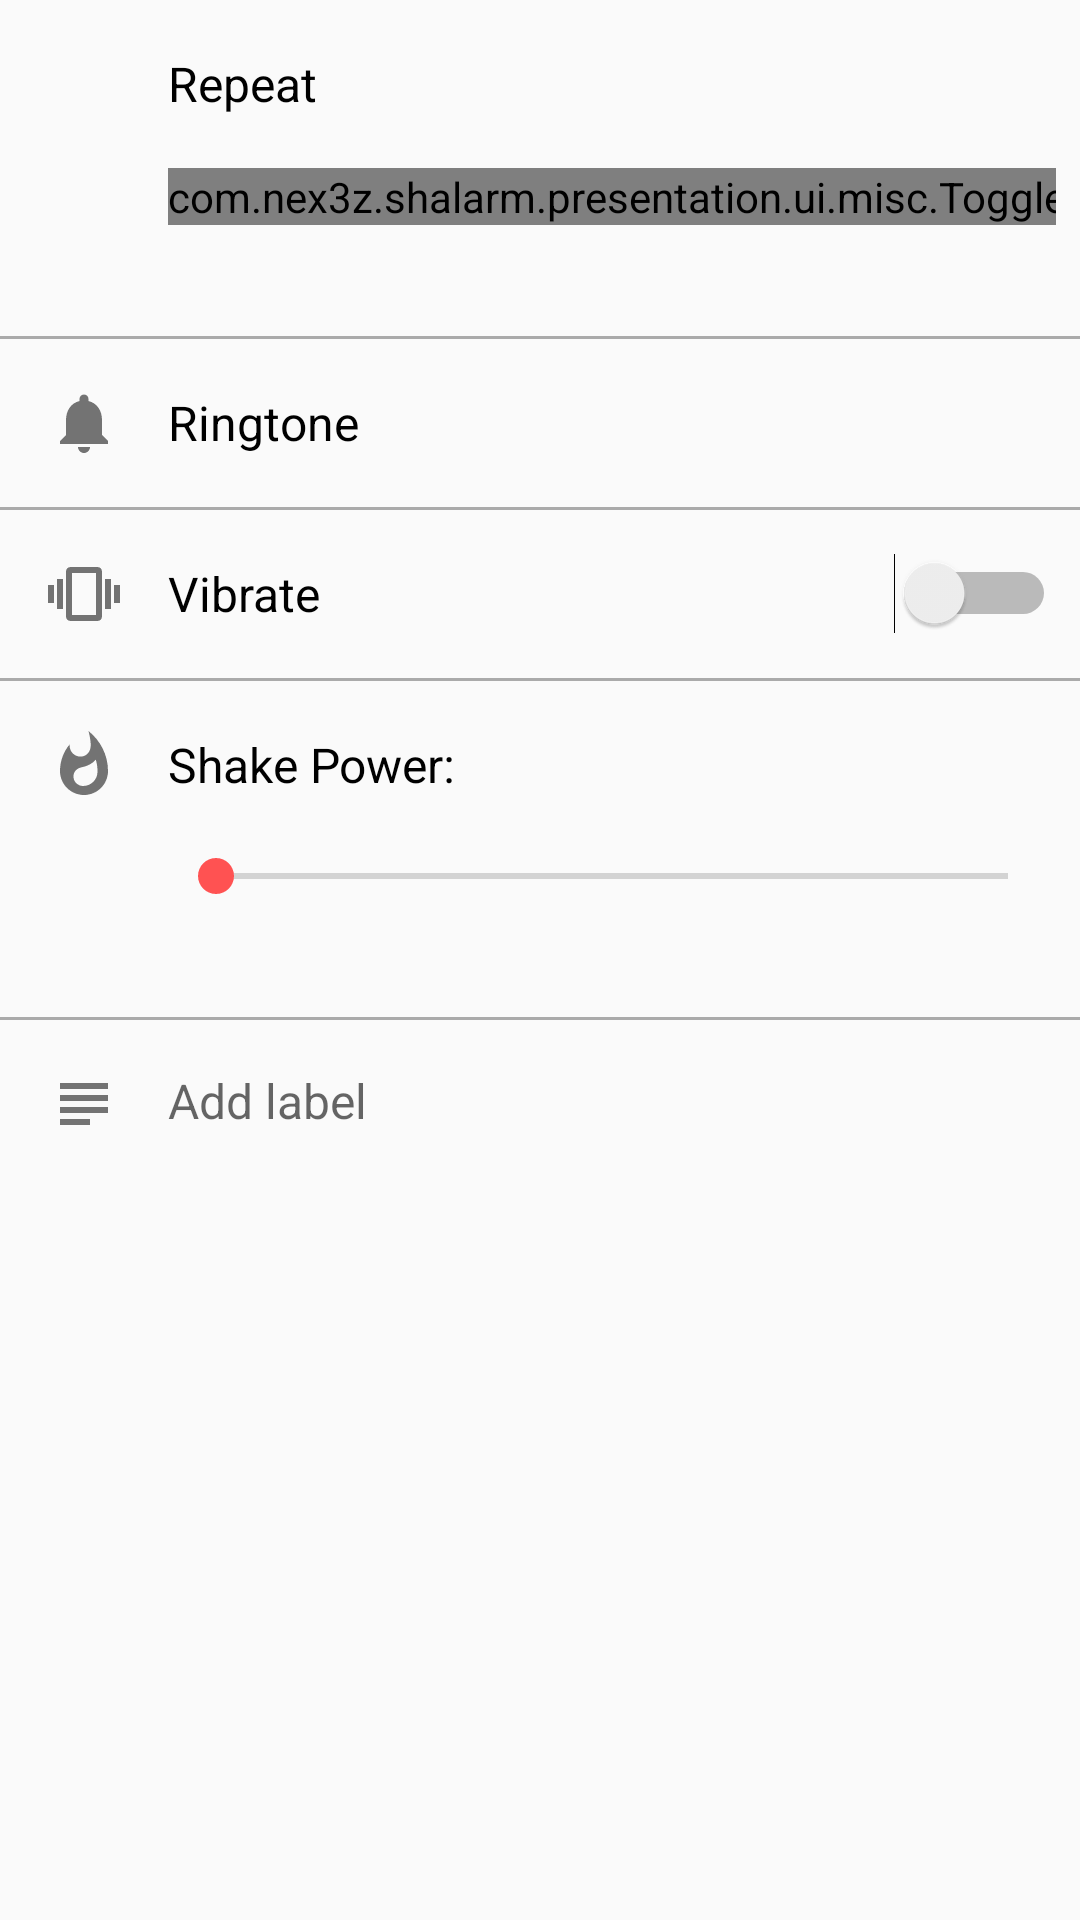

Icon click points for this 1080w x 1920h phone screenshot, format (x=x, y=y):
vibration: (x=84, y=594)
